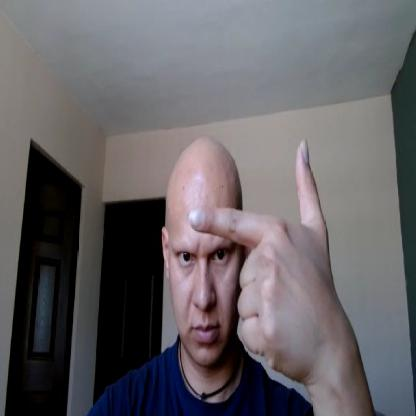G: (188, 136, 334, 378)
